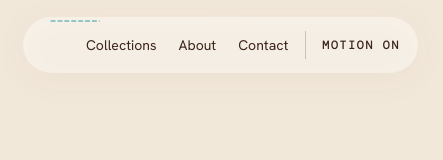
Test: the Motion button toggles aria-pressed and calls setOn
The image size is (443, 160).
Click the button "Motion on".
click(353, 45)  # box [306,31,401,59]
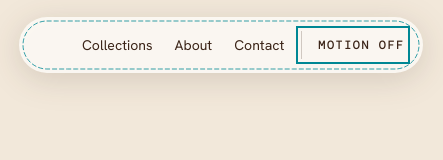
Check: the button "Motion off" is not pressed, box [302,31,405,59]
